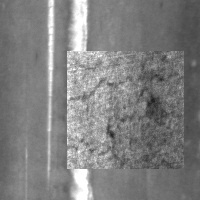crazing: (67, 51, 184, 169)
inclusion: (172, 116, 185, 150)
scratches: (64, 1, 92, 200), (45, 1, 58, 184)
